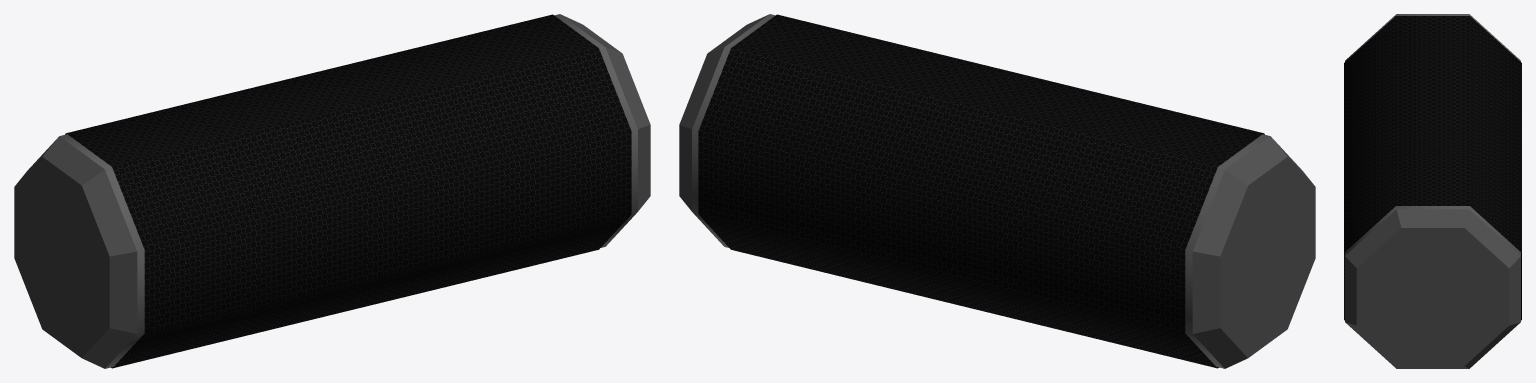
The model's file is Itr_Obj_Speaker5_03.FBX.
The picture shows the model from 3 angles, left to right: view 1: azimuth 30°, elevation 25°; view 2: azimuth 150°, elevation 25°; view 3: azimuth 270°, elevation 25°; orthographic projection. The views are drawn at different scales.
Visible parts, largest first — view 1: Itr_Obj_Speaker5_03; view 2: Itr_Obj_Speaker5_03; view 3: Itr_Obj_Speaker5_03.
Boxes of the visible parts, left/top/right/bottom form: Itr_Obj_Speaker5_03: left=14, top=14, right=650, bottom=368; Itr_Obj_Speaker5_03: left=679, top=14, right=1315, bottom=368; Itr_Obj_Speaker5_03: left=1344, top=14, right=1521, bottom=368.
Size of the model in its own units: 22.7 by 8.08 by 8.08.
